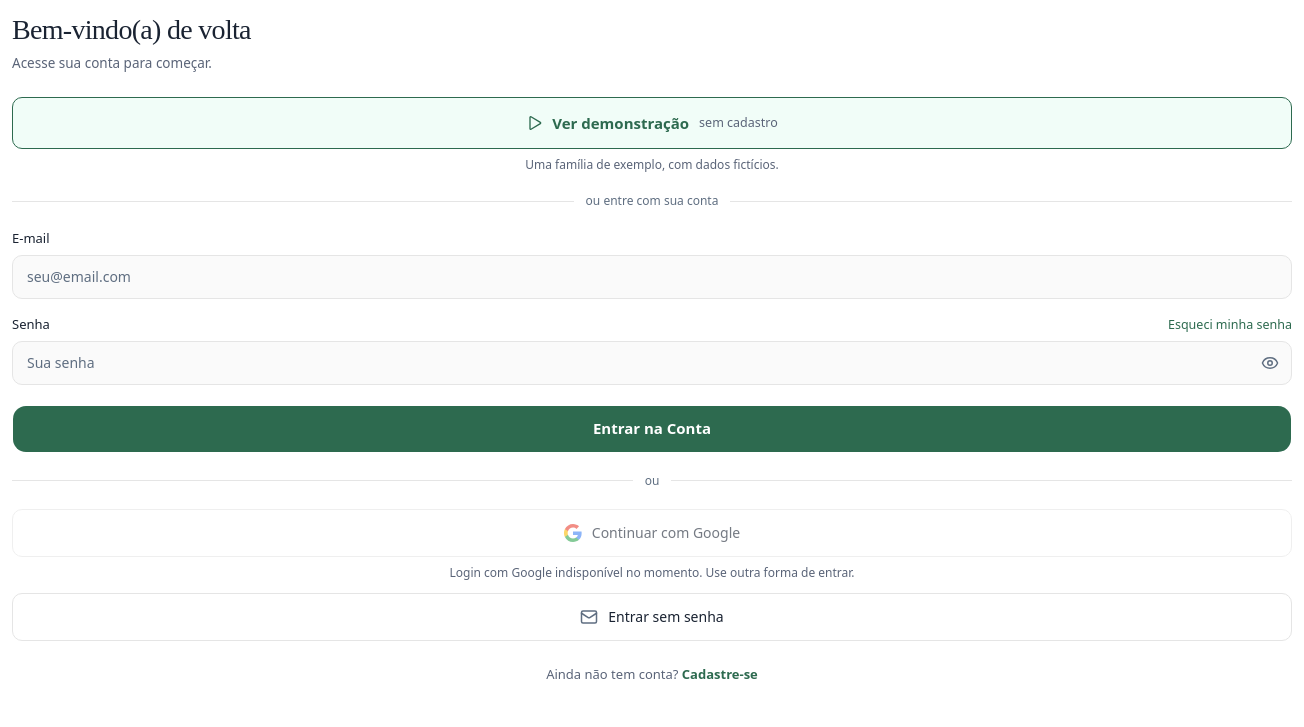
email authentication routes › keeps the login form usable after HTTP 401
Type "parent@example.com" into the field labelled "E-mail" at (652, 277), box [12,255,1292,299]
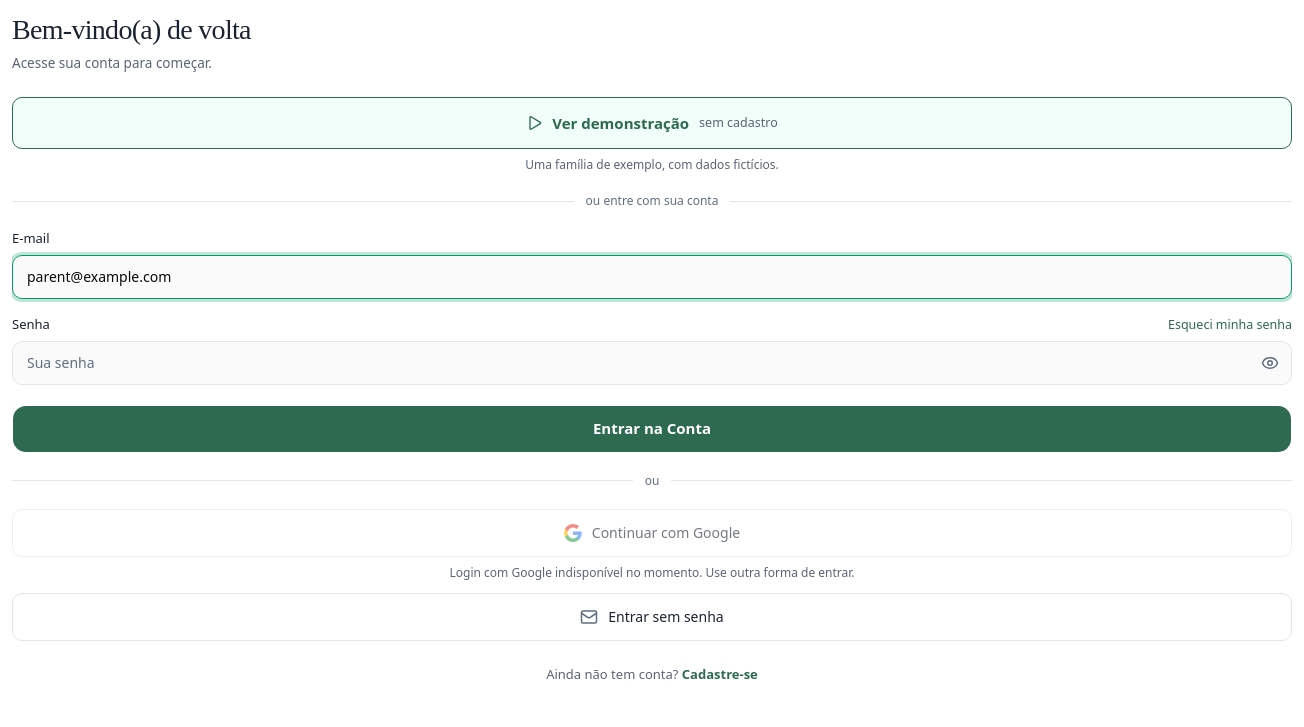
Type "wrong" into the password field labelled "Senha" at (652, 362), box [12,340,1292,384]
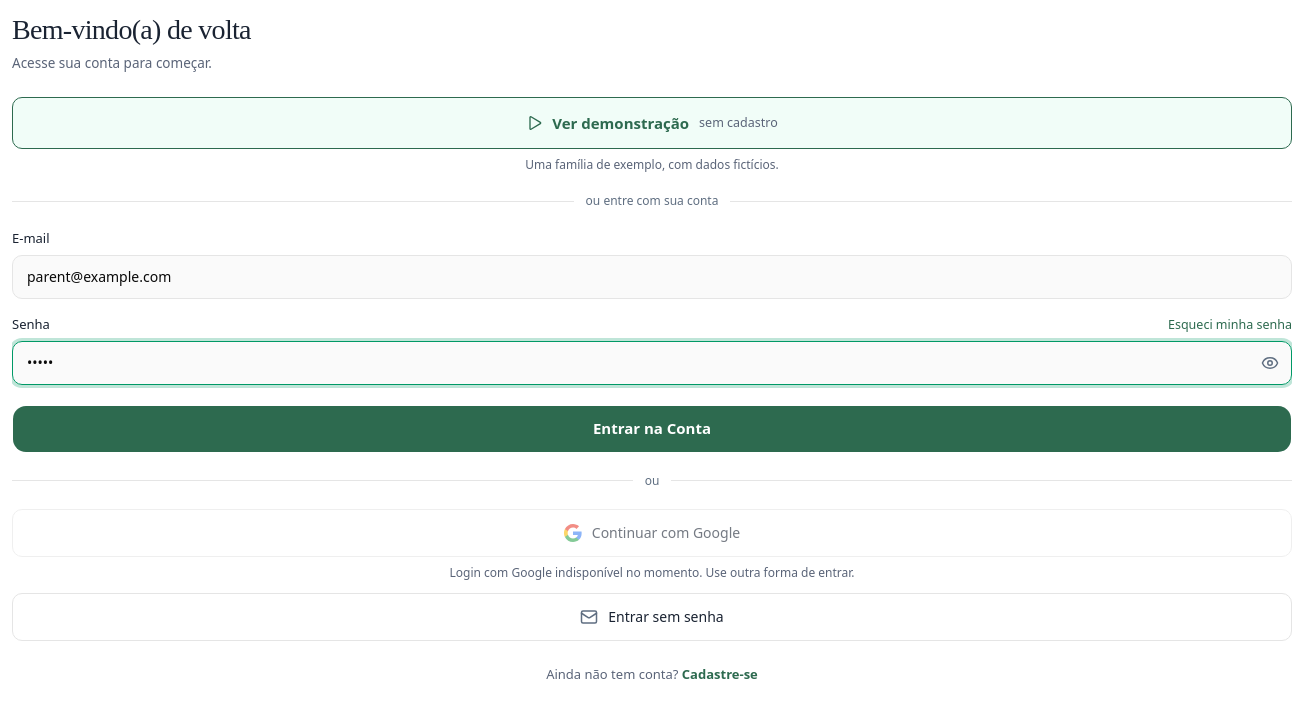
Click the button "Entrar na Conta" at (652, 428), box [12,404,1292,452]
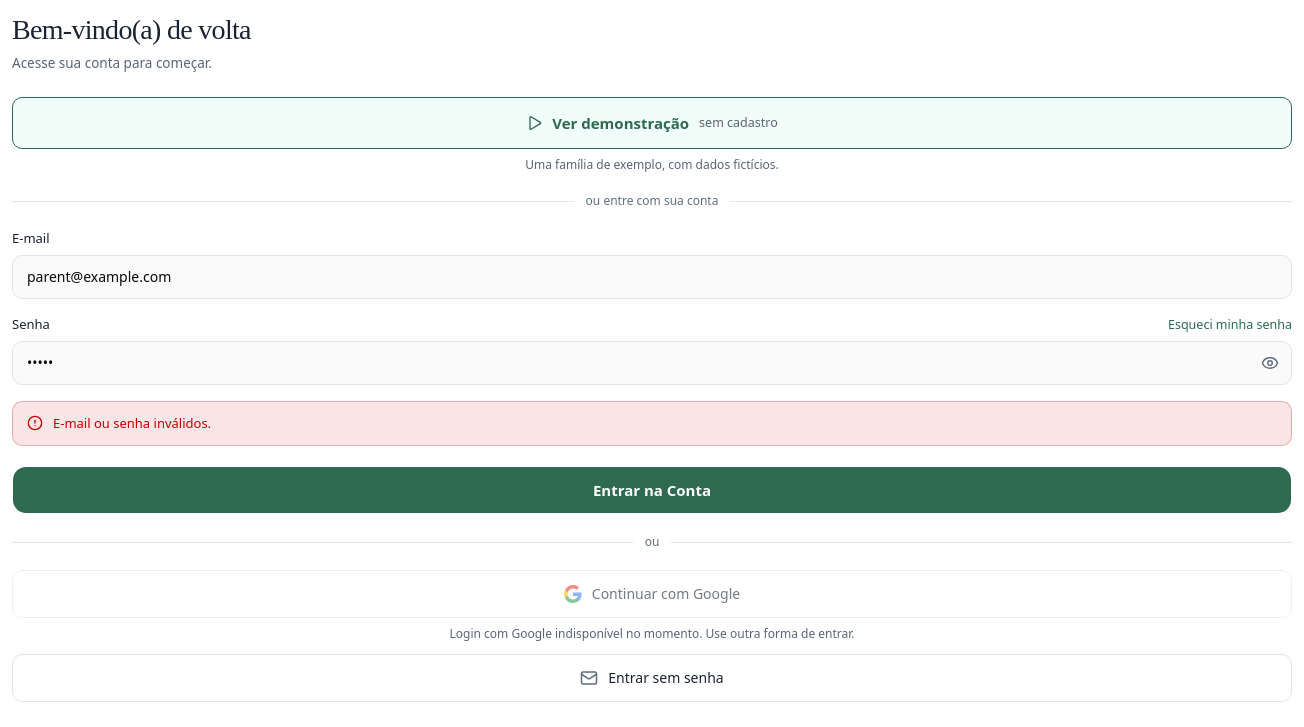
Expected: the button "Entrar na Conta" is enabled, [12,466,1292,514]
Result: the message reads "E-mail ou senha inválidos." at [53,414,211,432]
